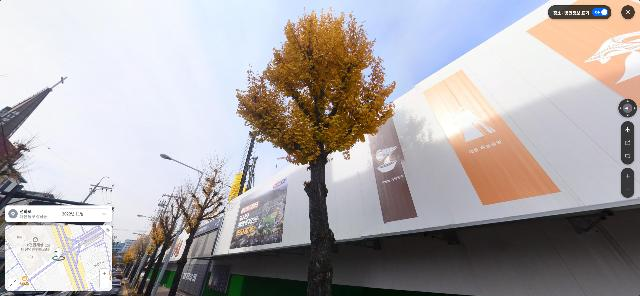ginkgo: (234, 6, 396, 296), (167, 149, 232, 296), (143, 178, 190, 296), (135, 207, 169, 296)
